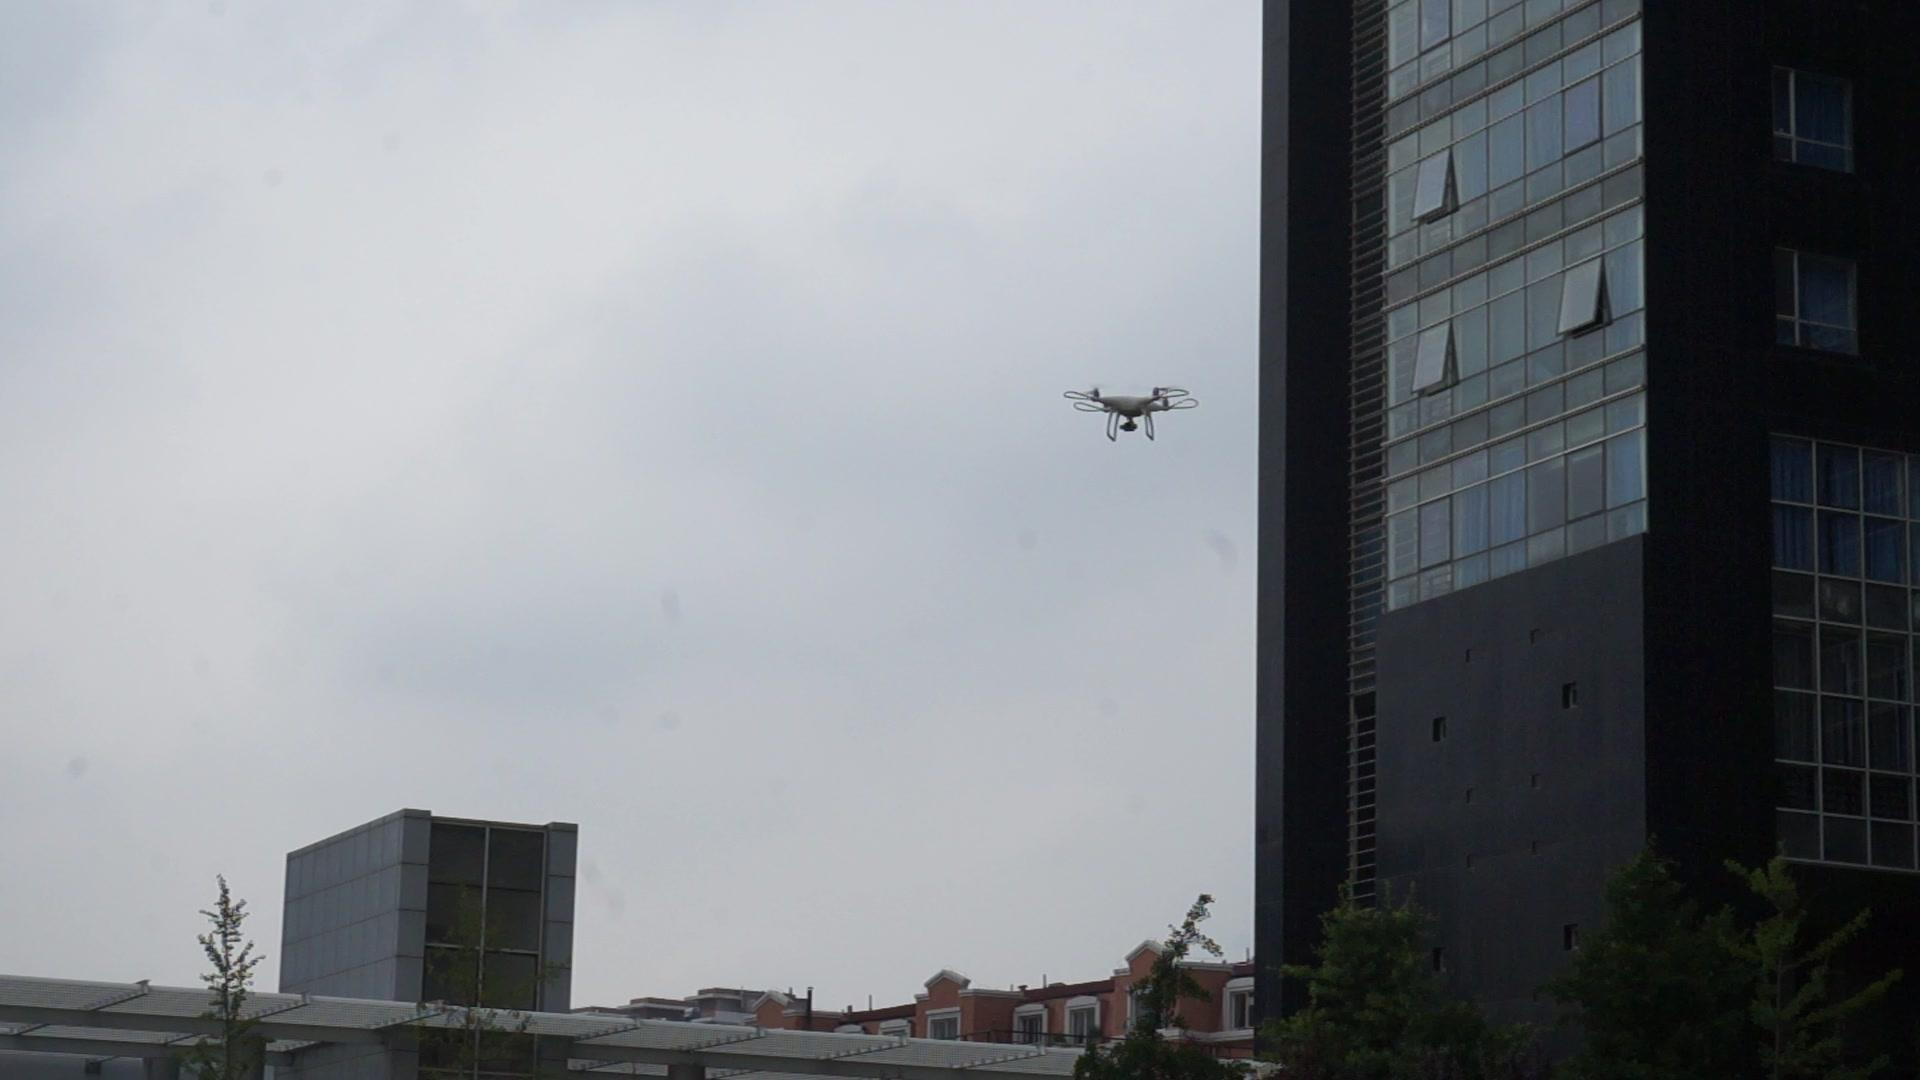UAV: (1063, 386, 1200, 442)
